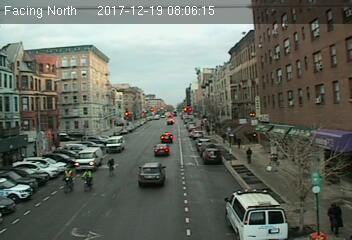bicycle: (80, 168, 95, 195), (62, 166, 75, 195), (106, 156, 116, 178)
car: (137, 162, 164, 184)
pedestrian: (325, 198, 344, 237), (244, 145, 254, 168)
police: (225, 187, 289, 240)
truck: (73, 147, 102, 169), (203, 148, 223, 165), (104, 136, 124, 151), (153, 143, 169, 156), (160, 132, 172, 142)
